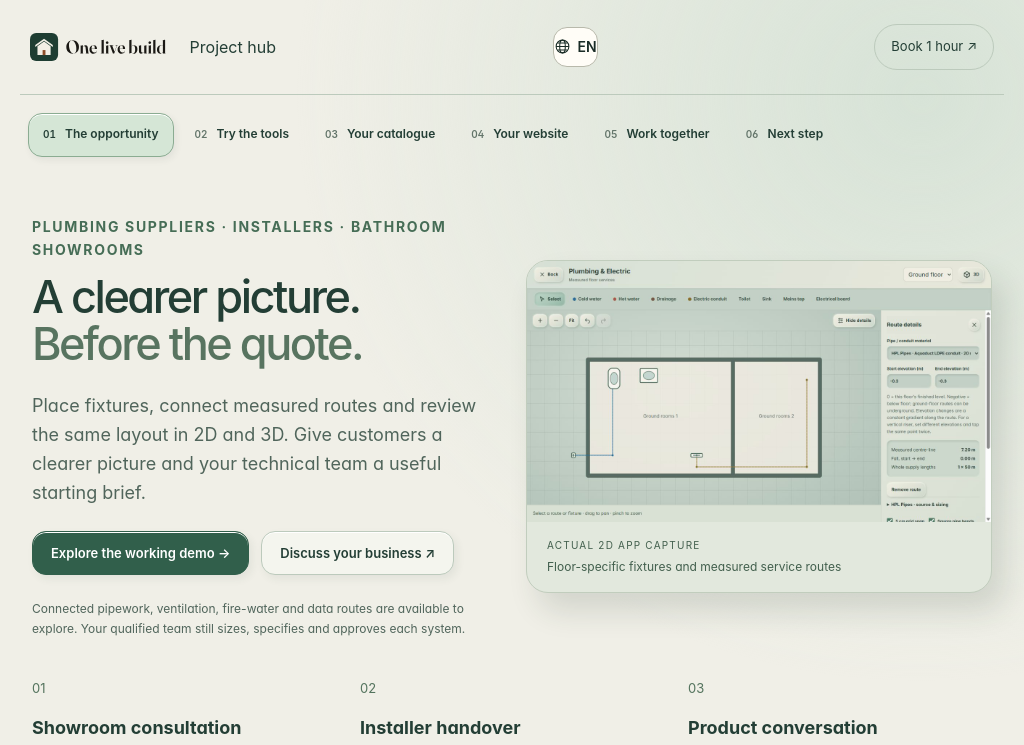
Test case: sales enablement journeys › distinguishes supplier references and dimensional illustrations from available stock and CAD
Click the tab "03 Your catalogue". click: [380, 134]
box: [310,112,450,156]
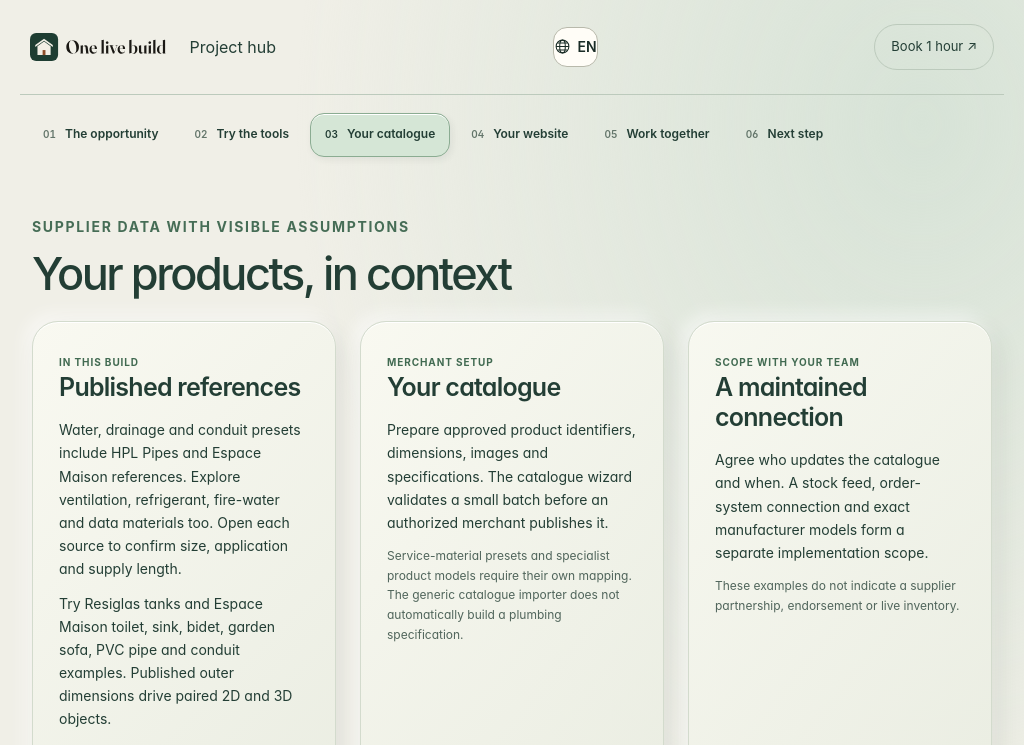
expect the text "not automatically build a plumbing" is shown: met, box [387,548,632,642]
expect the text "do not indicate a supplier partnership" is shown: met, box [715,578,959,613]
